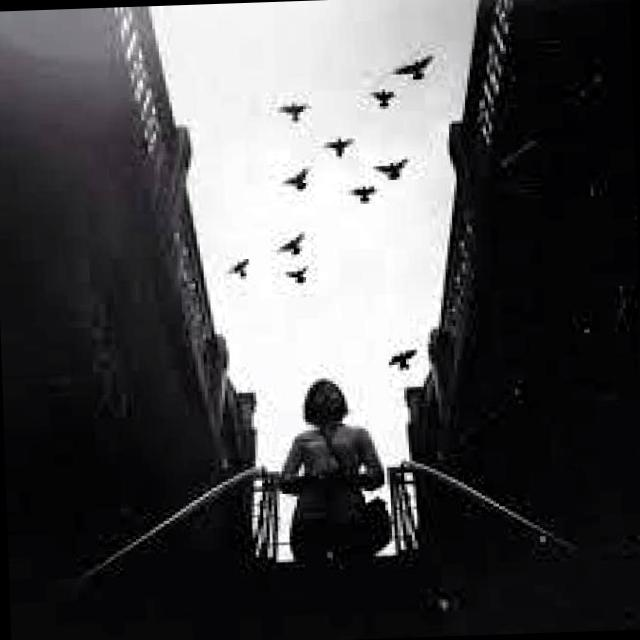bird: (394, 52, 442, 86), (280, 161, 313, 197), (272, 230, 308, 260), (386, 346, 422, 376), (372, 158, 412, 184), (362, 85, 398, 110), (284, 264, 316, 292), (278, 96, 310, 124), (344, 184, 378, 210), (323, 134, 355, 160), (223, 256, 251, 285)
